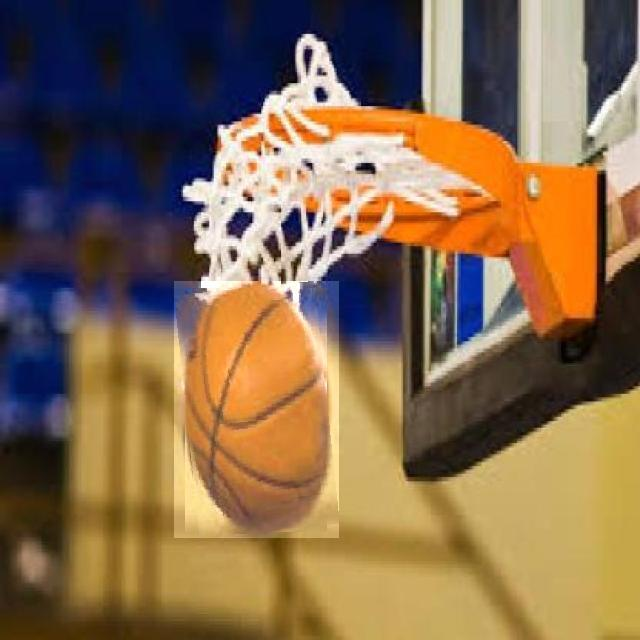Ball: (174, 282, 339, 538)
